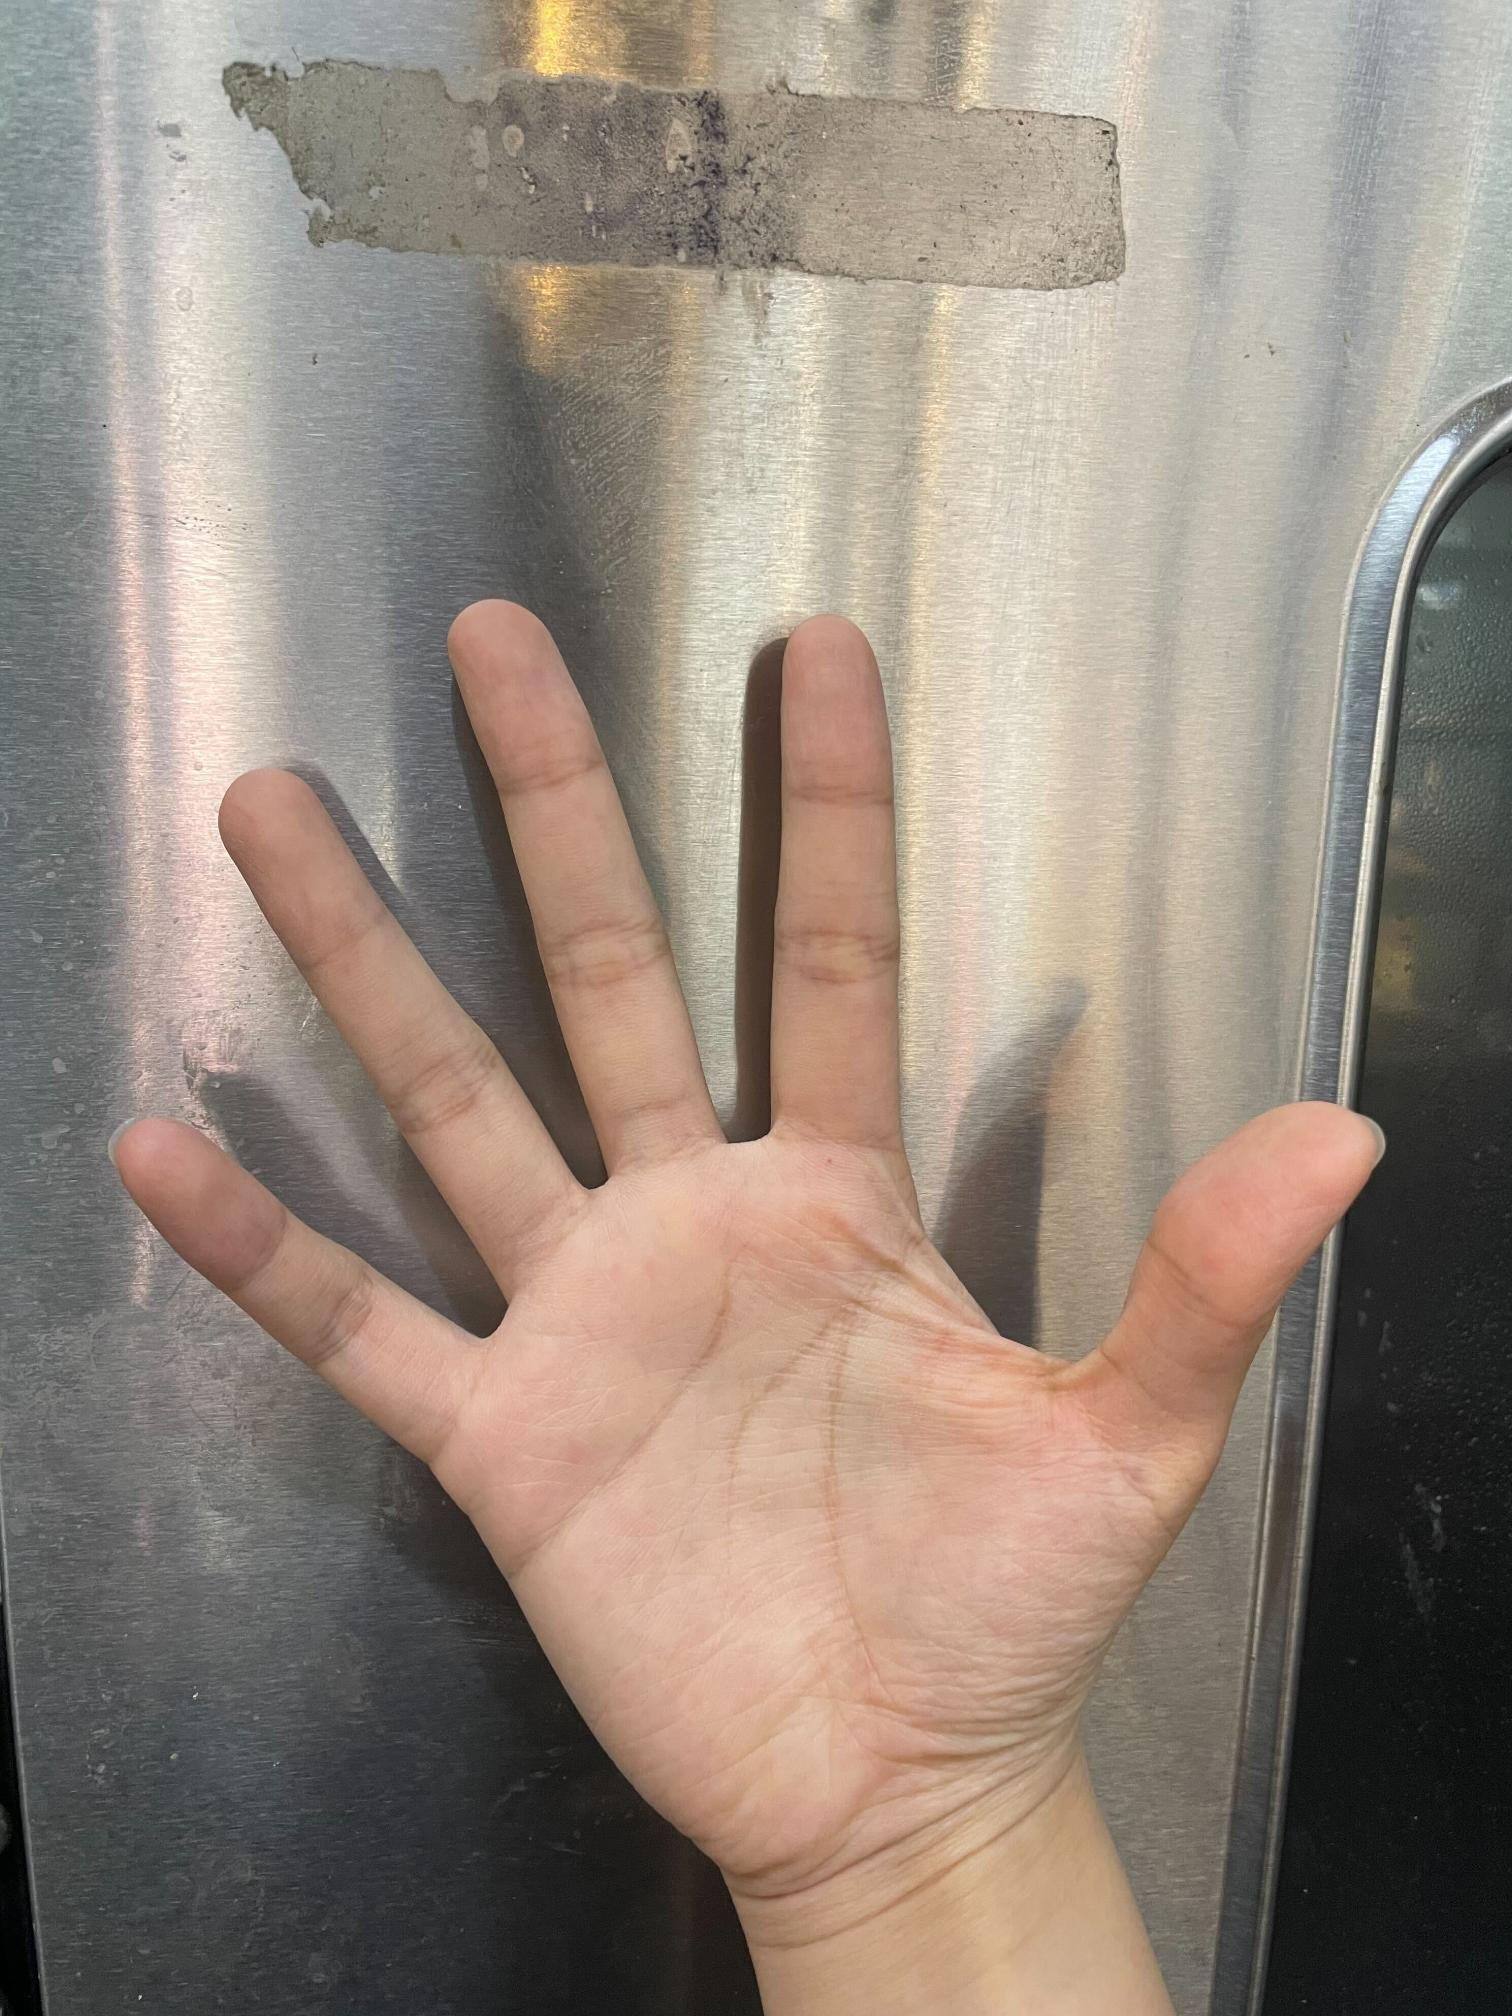open: (84, 571, 1406, 1983)
